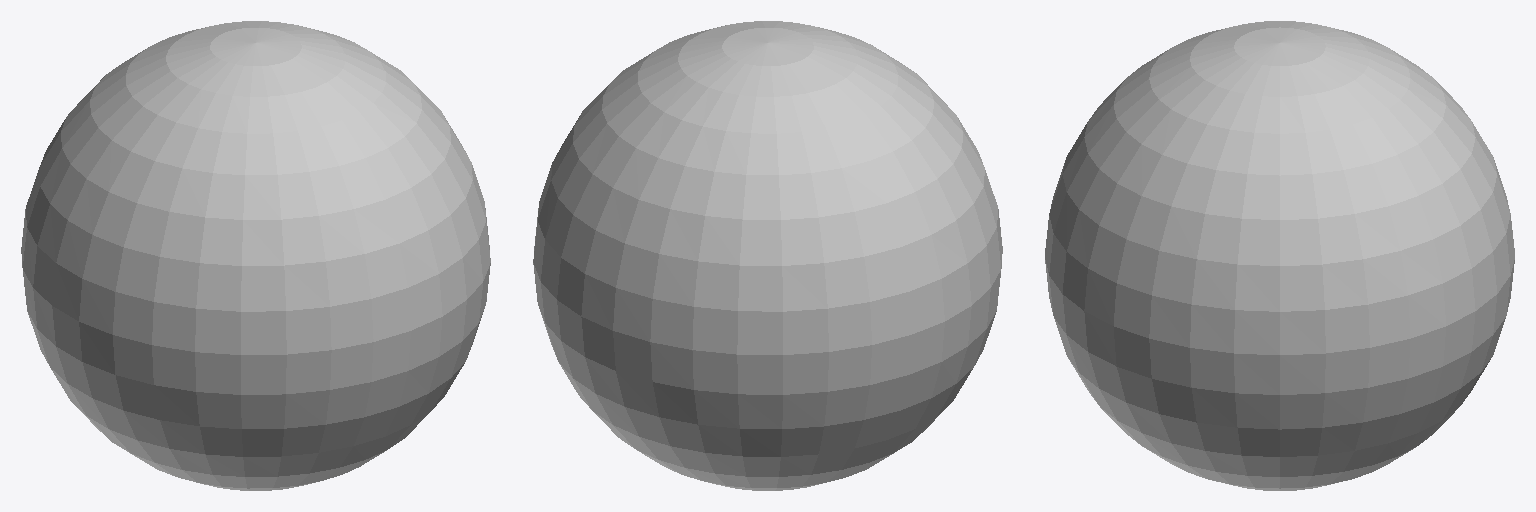
The model's file is navpoint.obj.
The picture shows the model from 3 angles: view 1: azimuth 30°, elevation 25°; view 2: azimuth 150°, elevation 25°; view 3: azimuth 270°, elevation 25°; orthographic projection.
Parts seen in each view (by area): view 1: Sphere001; view 2: Sphere001; view 3: Sphere001.
Boxes of the visible parts, x1=… form: Sphere001: x1=21, y1=21, x2=490, y2=490; Sphere001: x1=533, y1=21, x2=1002, y2=490; Sphere001: x1=1045, y1=21, x2=1514, y2=490.
Bounding box in the file's own units: 0.3358 × 0.3358 × 0.3358.